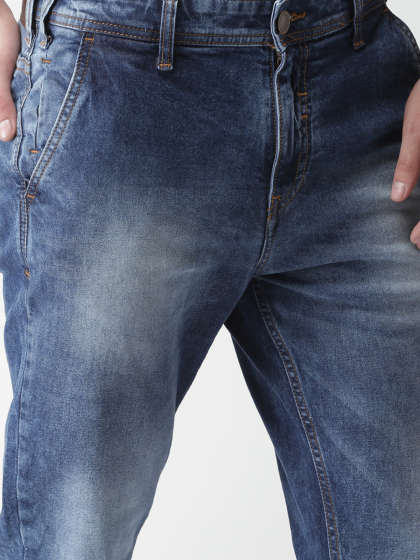jeans: (8, 1, 419, 560)
